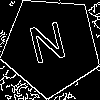N: (26, 21, 71, 74)
